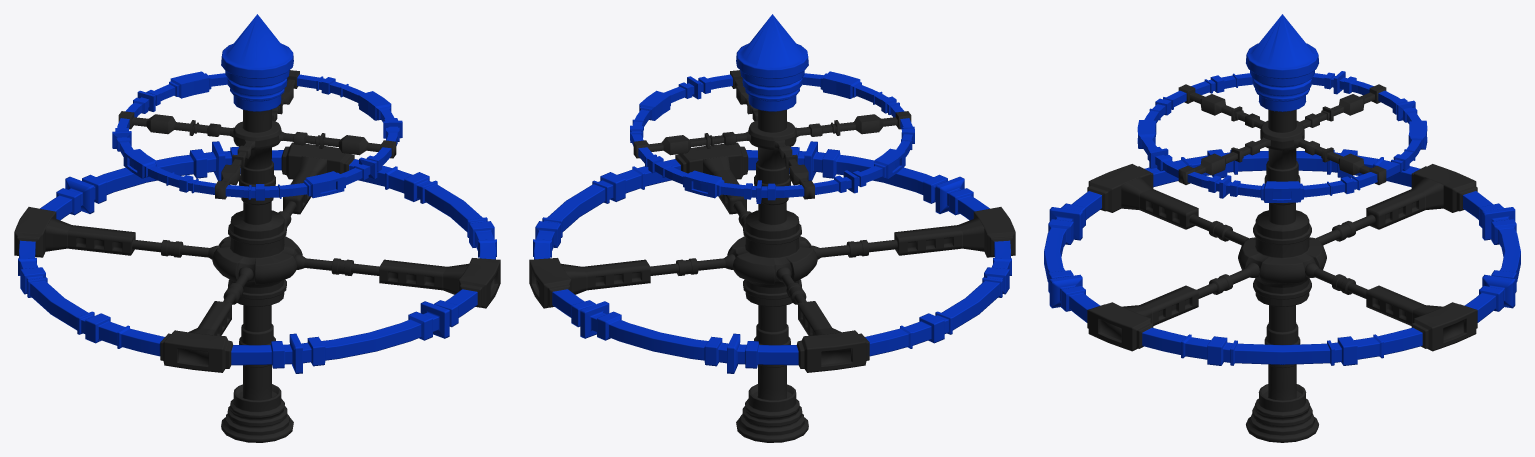
File: situation_blue.glb
3 views of the same model, side by side, from view 1: azimuth 30°, elevation 25°; view 2: azimuth 150°, elevation 25°; view 3: azimuth 270°, elevation 25° (orthographic).
Parts seen in each view (by area): view 1: external_smaller; view 2: external_smaller; view 3: external_smaller.
Boxes of the visible parts, box(x1,y1,x2,y2) form: external_smaller: box(14, 14, 500, 442); external_smaller: box(529, 14, 1015, 442); external_smaller: box(1044, 14, 1520, 442).
Size of the model in its own units: 7.45 by 7.14 by 7.45.
